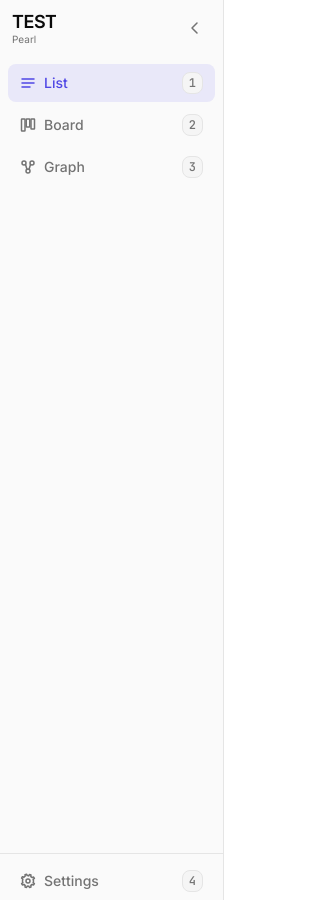
Scenario: Sidebar › expands when the toggle button is clicked again
This screenshot has width=320, height=900.
What coordinates should you click on to do the following:
click the button named "collapse sidebar"
I would click on:
 (195, 28)
Its box is left=179, top=12, right=211, bottom=44.
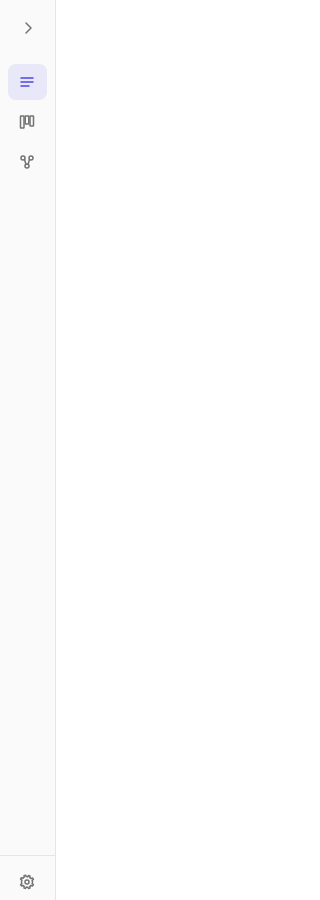
What coordinates should you click on to do the following:
click the button named "expand sidebar"
I would click on:
 (28, 28)
Its box is left=12, top=12, right=44, bottom=44.
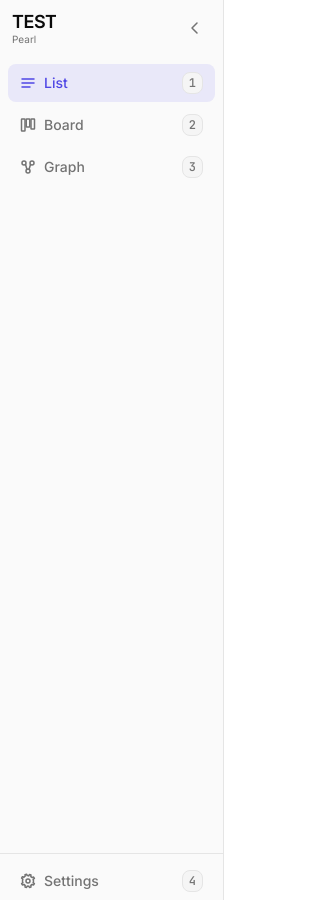
Result: the text "List" is shown at left=44, top=73, right=68, bottom=93
